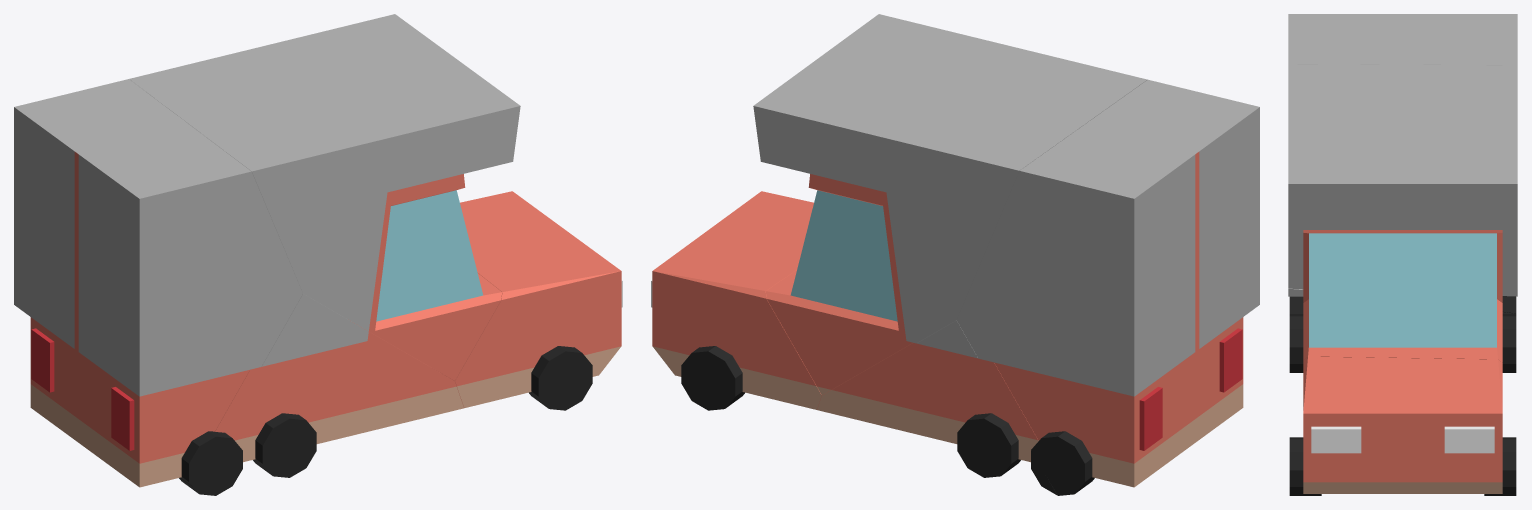
File: Car 5 Fractured.fbx
3 renders of one model, left to right at view 1: azimuth 30°, elevation 25°; view 2: azimuth 150°, elevation 25°; view 3: azimuth 270°, elevation 25°, orthographic. The views are drawn at different scales.
Visible parts, largest first — view 1: Car_5_Breaking_cell.001, Car_5_Breaking_cell.003, Car_5_Breaking_cell.002, Car_5_Breaking_cell; view 2: Car_5_Breaking_cell.001, Car_5_Breaking_cell.003, Car_5_Breaking_cell.002, Car_5_Breaking_cell; view 3: Car_5_Breaking_cell.003, Car_5_Breaking_cell.002, Car_5_Breaking_cell.001, Car_5_Breaking_cell.
Part boxes in pixels (box(x1,y1,x2,y2)): Car_5_Breaking_cell.001: box(14, 79, 302, 487); Car_5_Breaking_cell.003: box(129, 14, 520, 380); Car_5_Breaking_cell.002: box(445, 191, 622, 410); Car_5_Breaking_cell: box(179, 294, 463, 495); Car_5_Breaking_cell.001: box(956, 79, 1259, 495); Car_5_Breaking_cell.003: box(753, 14, 1147, 394); Car_5_Breaking_cell.002: box(651, 191, 821, 410); Car_5_Breaking_cell: box(817, 320, 1057, 495); Car_5_Breaking_cell.003: box(1288, 64, 1517, 362); Car_5_Breaking_cell.002: box(1289, 356, 1516, 495); Car_5_Breaking_cell.001: box(1288, 14, 1517, 313); Car_5_Breaking_cell: box(1288, 288, 1516, 372).
Bounding box in the file's own units: 525 × 320 × 230.
